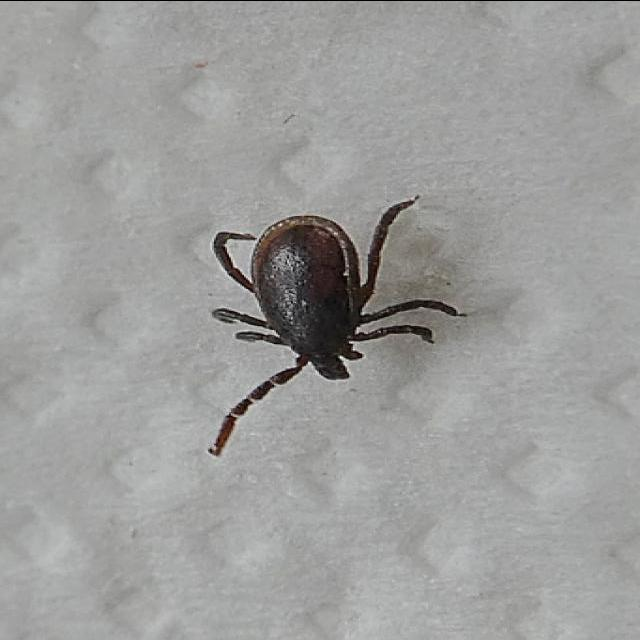Ixodes Ricinus-M: (214, 196, 462, 456)
